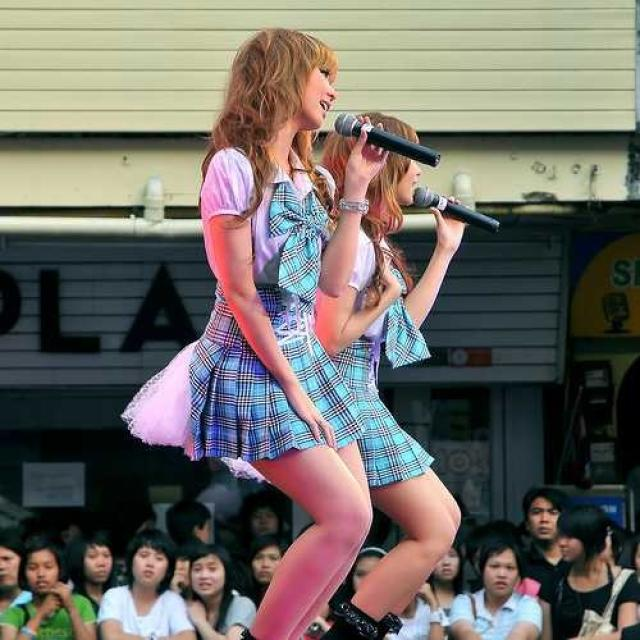microphone: (333, 112, 440, 169), (411, 184, 500, 235)
